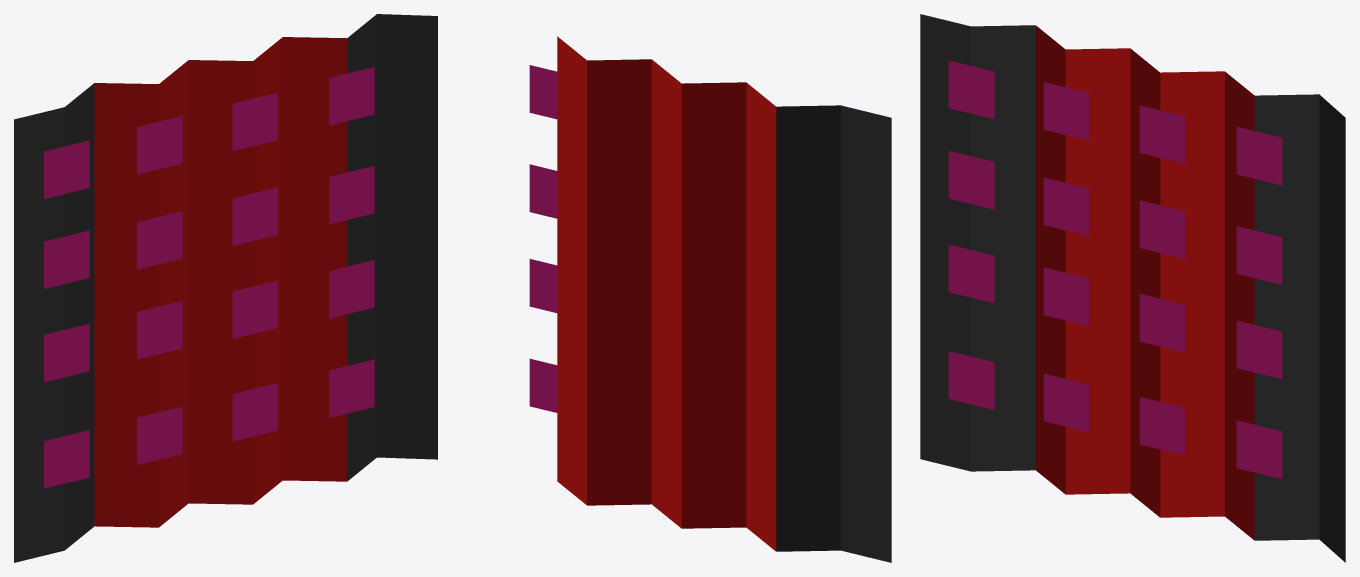
The model's file is farm.obj.
3 renders of one model, left to right at view 1: azimuth 30°, elevation 25°; view 2: azimuth 150°, elevation 25°; view 3: azimuth 330°, elevation 25°, orthographic.
Visible parts, largest first — view 1: Plane, Plane.003, Plane.005, Plane.007, Plane.008, Plane.010, Plane.011, Plane.012, Plane.015, Plane.016, Plane.001, Plane.002 (+5 smaller); view 2: Plane, Plane.015, Plane.013, Plane.016, Plane.014; view 3: Plane, Plane.001, Plane.002, Plane.006, Plane.007, Plane.008, Plane.009, Plane.011, Plane.003, Plane.004, Plane.010, Plane.012 (+5 smaller).
Boxes of the visible parts, x1,y1,x2,y2 form: Plane: (14, 14, 437, 562); Plane.003: (44, 323, 89, 382); Plane.005: (137, 406, 182, 464); Plane.007: (137, 211, 182, 269); Plane.008: (137, 116, 182, 174); Plane.010: (232, 187, 277, 245); Plane.011: (232, 280, 277, 338); Plane.012: (232, 383, 277, 441); Plane.015: (329, 166, 374, 224); Plane.016: (329, 67, 374, 125); Plane.001: (44, 140, 89, 198); Plane.002: (44, 230, 89, 288); Plane: (557, 36, 891, 562); Plane.015: (529, 164, 557, 218); Plane.013: (529, 358, 557, 412); Plane.016: (529, 65, 557, 119); Plane.014: (529, 259, 557, 312); Plane: (920, 14, 1345, 562); Plane.001: (948, 60, 994, 119); Plane.002: (948, 151, 994, 209); Plane.006: (1043, 267, 1089, 325); Plane.007: (1043, 177, 1089, 235); Plane.008: (1043, 82, 1089, 140); Plane.009: (1139, 105, 1185, 163); Plane.011: (1139, 294, 1185, 352); Plane.003: (948, 244, 994, 303); Plane.004: (948, 351, 994, 409); Plane.010: (1139, 200, 1185, 258); Plane.012: (1139, 397, 1185, 455).
Size of the model in its own units: 1.33 by 1.33 by 0.0989.
